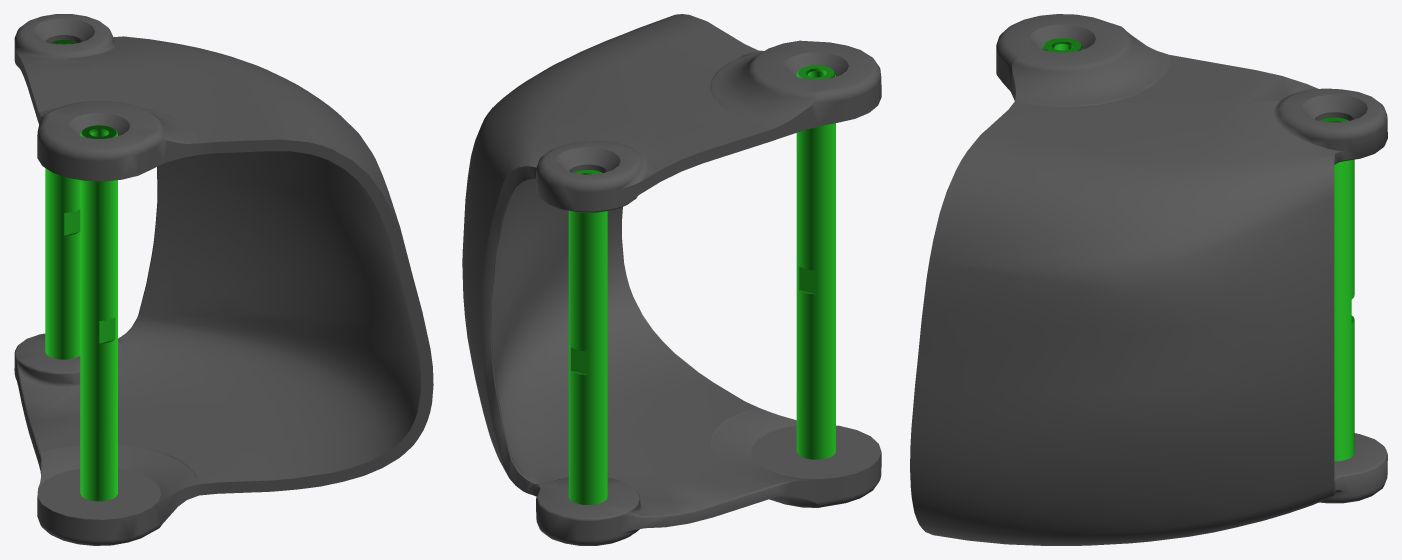
The model's file is right_knee_shell.obj.
The picture shows the model from 3 angles, left to right: view 1: azimuth 30°, elevation 25°; view 2: azimuth 150°, elevation 25°; view 3: azimuth 270°, elevation 25°; orthographic projection. The views are drawn at different scales.
Parts seen in each view (by area): view 1: stitch_result_stitch_all; view 2: stitch_result_stitch_all; view 3: stitch_result_stitch_all.
Boxes of the visible parts, x1,y1,x2,y2 form: stitch_result_stitch_all: (14,14,433,545); stitch_result_stitch_all: (462,14,881,545); stitch_result_stitch_all: (910,14,1387,545).
Bounding box in the file's own units: 0.1603 × 0.176 × 0.1785.
